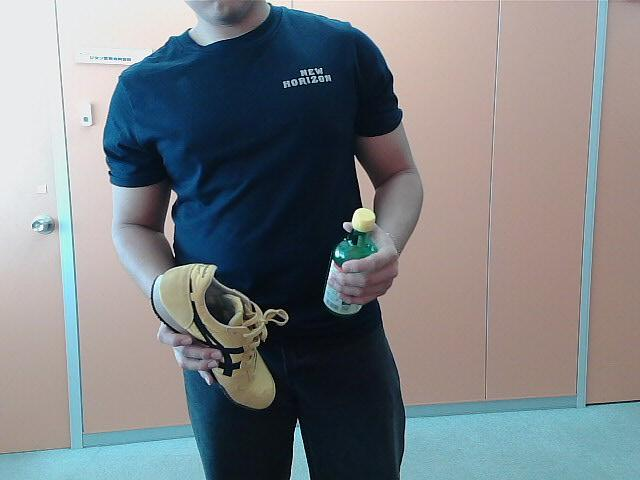Lemon_sapporo: (322, 208, 380, 326)
Shoes: (150, 262, 278, 411)
